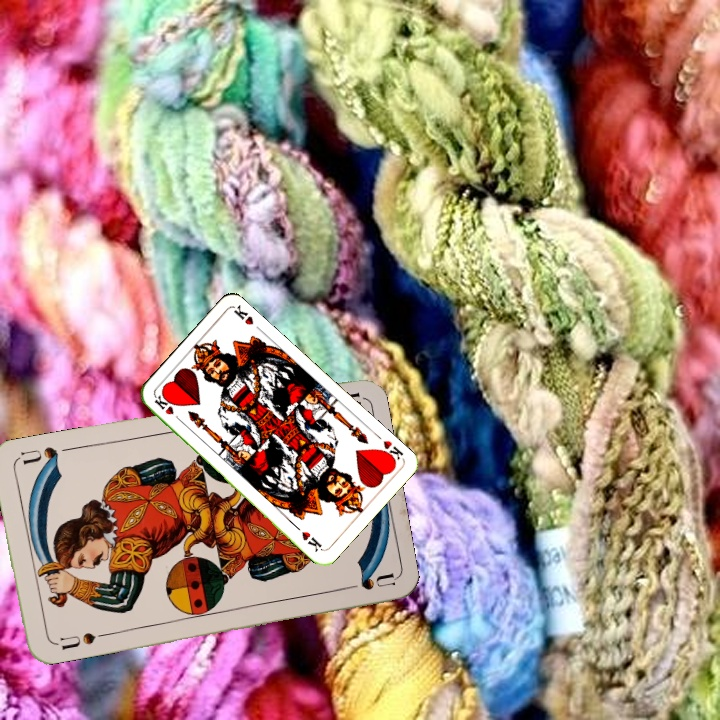HK: (150, 391, 185, 424), (376, 436, 406, 467)
SU: (49, 628, 108, 653)
